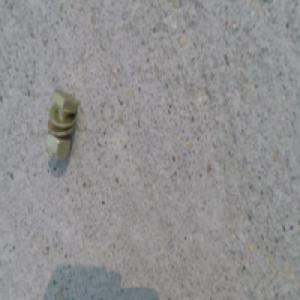BoltNutSet: (45, 90, 78, 162)
